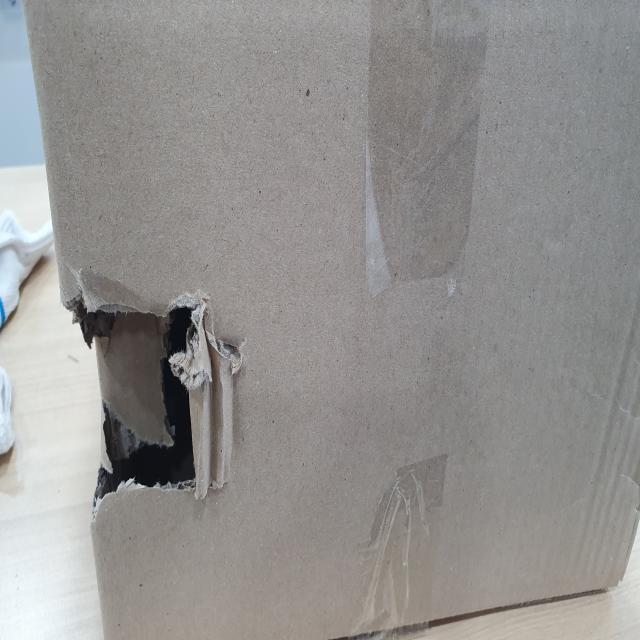hole: (70, 261, 240, 545)
